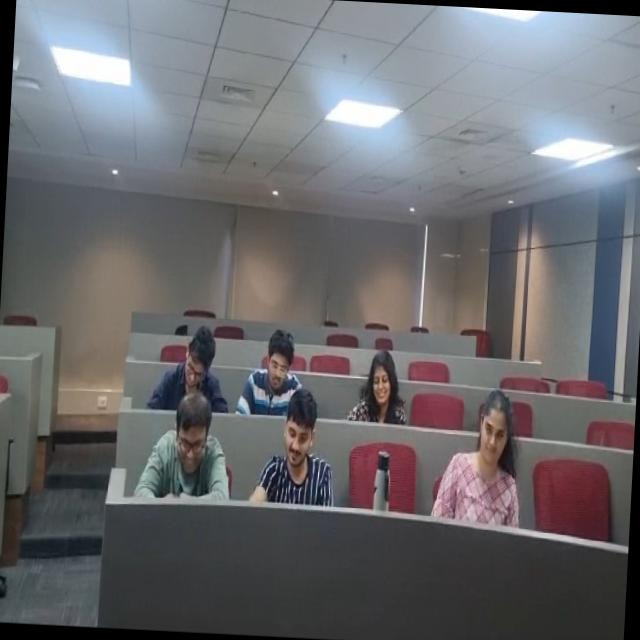cheating: (134, 372, 248, 518), (451, 384, 534, 506), (261, 373, 336, 484), (361, 354, 412, 436)
non-cheating: (158, 302, 234, 412), (238, 316, 310, 426)
